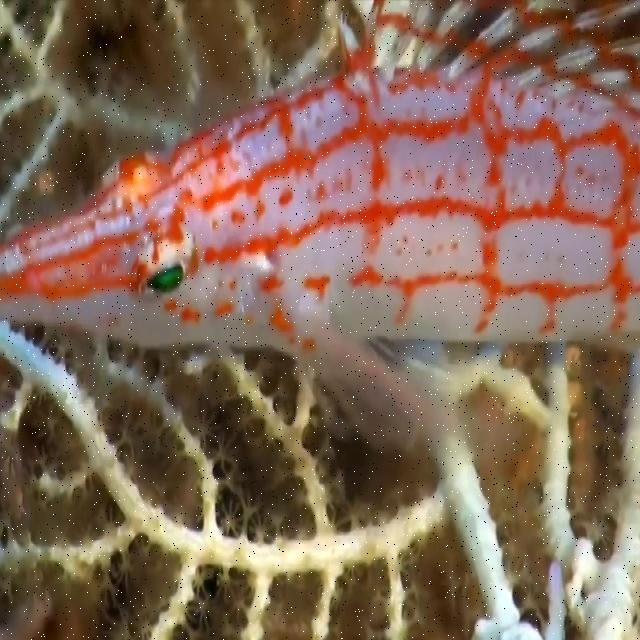fish: (0, 0, 639, 468)
